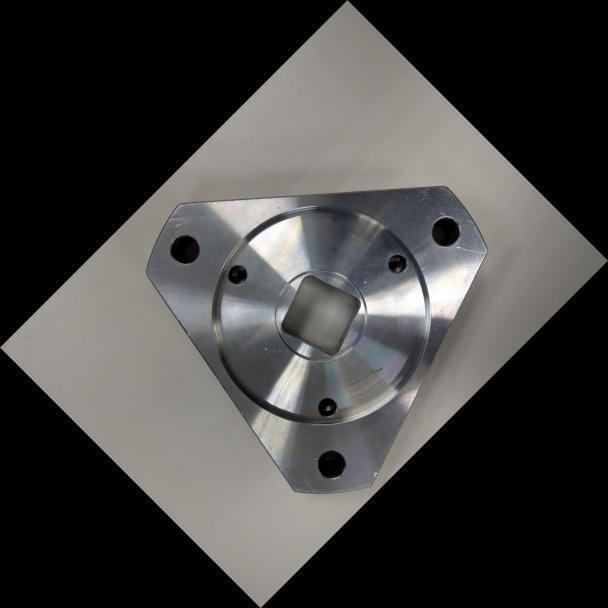hole: (162, 226, 208, 272), (422, 208, 468, 254), (309, 442, 354, 487), (381, 247, 413, 279), (222, 258, 253, 290), (311, 391, 342, 423)
